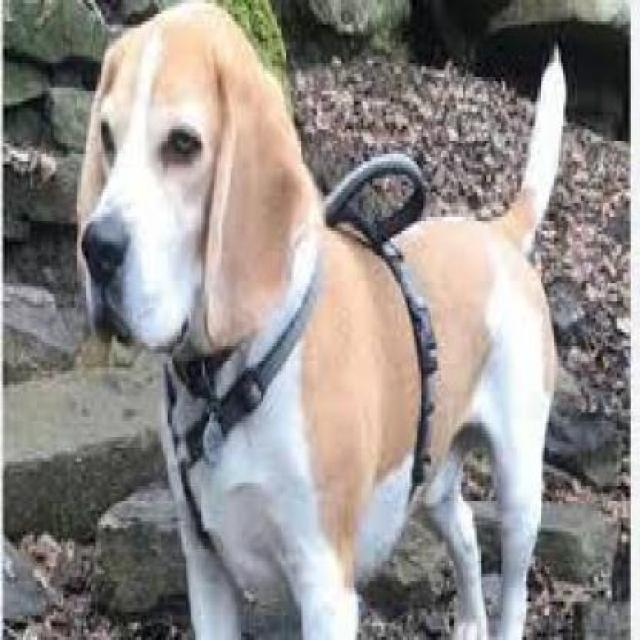Dog: (75, 0, 571, 637)
